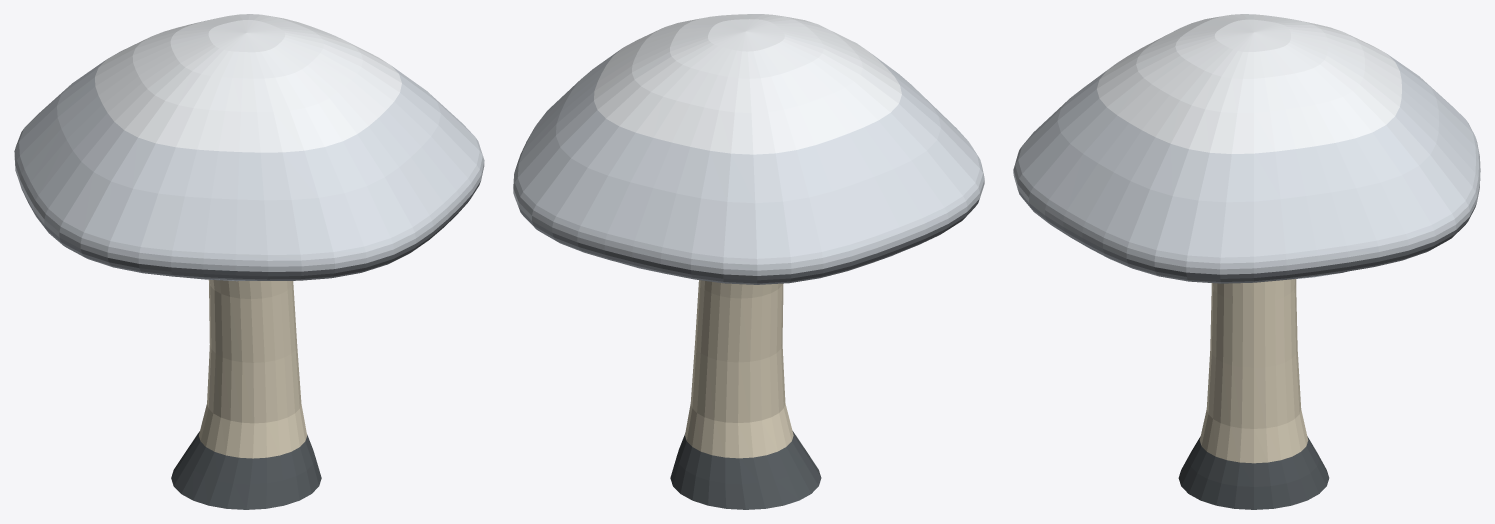
File: MushroomTreeFar.obj
3 views of the same model, side by side, from view 1: azimuth 30°, elevation 25°; view 2: azimuth 150°, elevation 25°; view 3: azimuth 270°, elevation 25° (orthographic).
Bounding box in the file's own units: 9.38 × 9.78 × 9.29.
